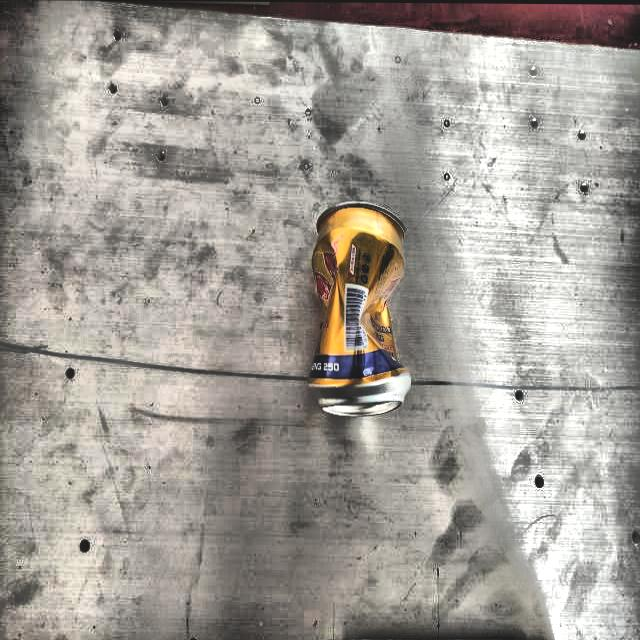can: (309, 195, 426, 428)
